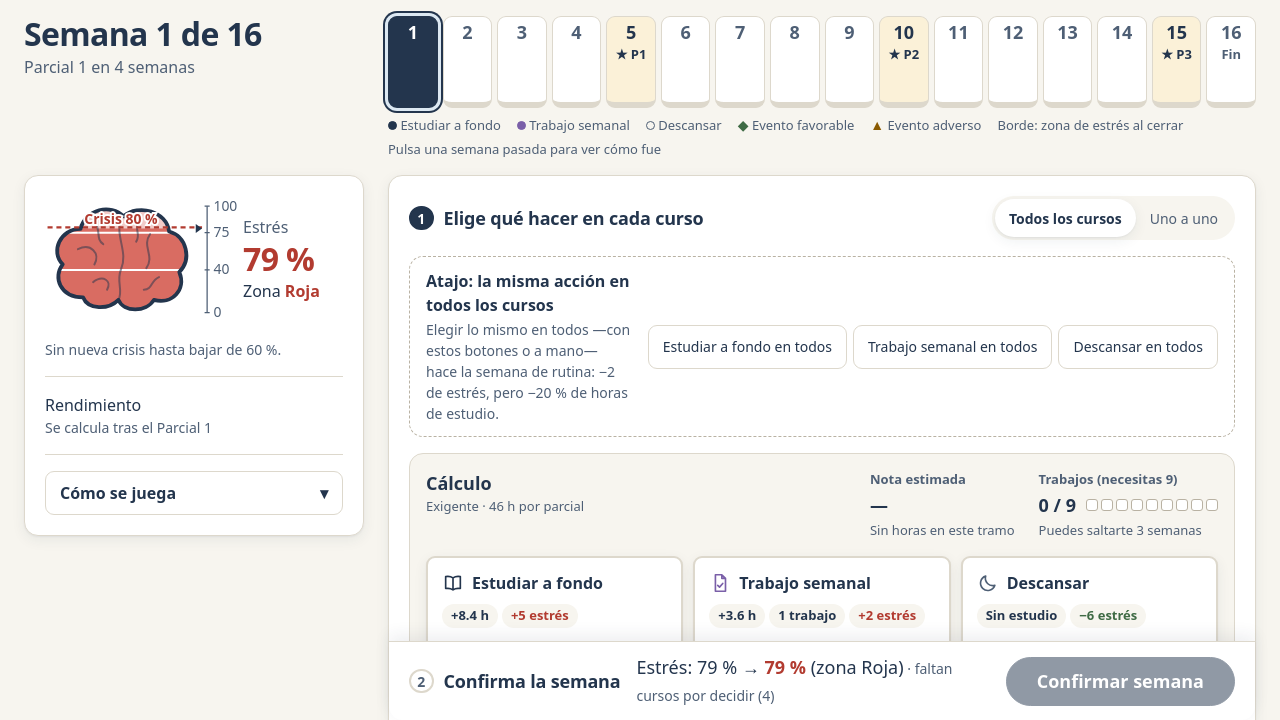
interfaz › avisa del riesgo de colapso cuando ya no habrá crisis que lo frene
Click the button "Trabajo semanal en todos".
click(953, 346)  # box [853,324,1052,368]
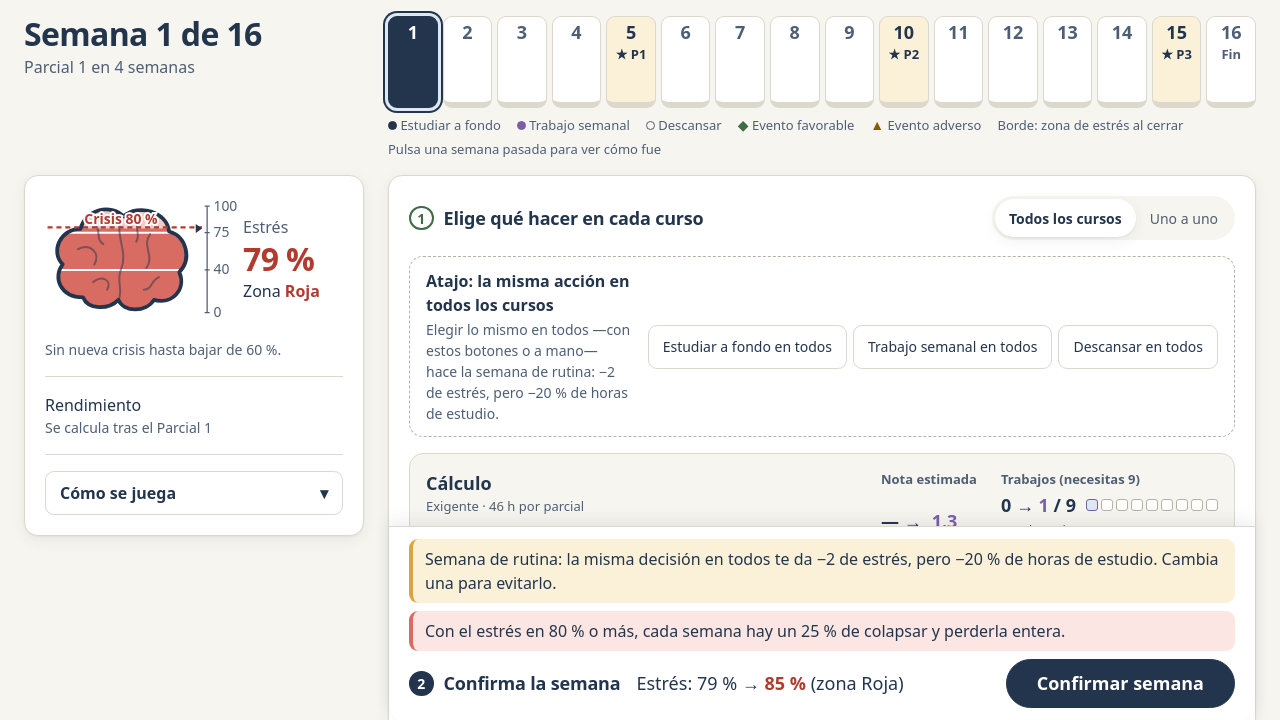
Now the message shows "colapsar", box [819,620,1065,642]
Click the button "Descansar en todos".
click(1138, 346)  # box [1058,324,1218,368]
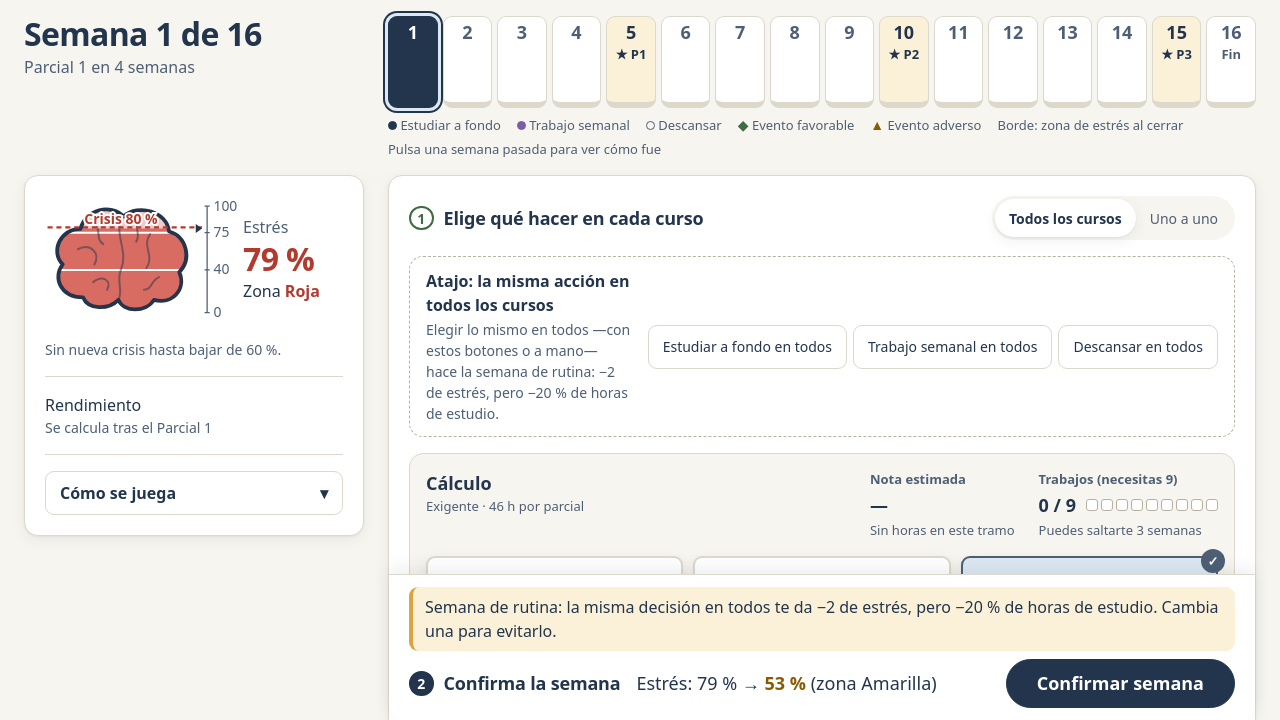
Now the message is gone
